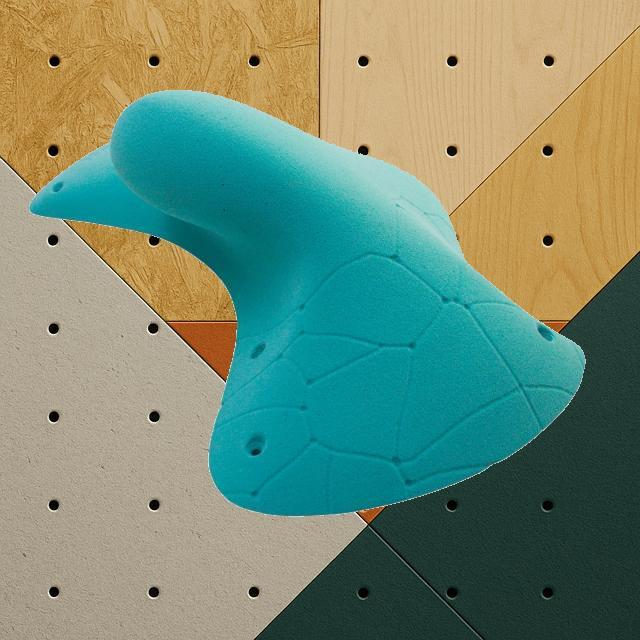Jug: (28, 87, 586, 517)
